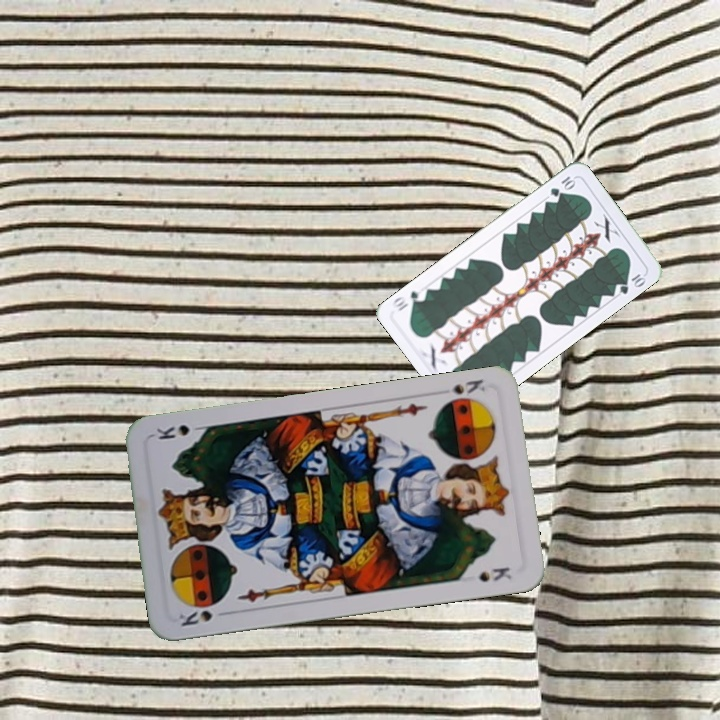G10: (546, 172, 578, 199)
SK: (173, 606, 232, 629), (448, 375, 487, 397)
